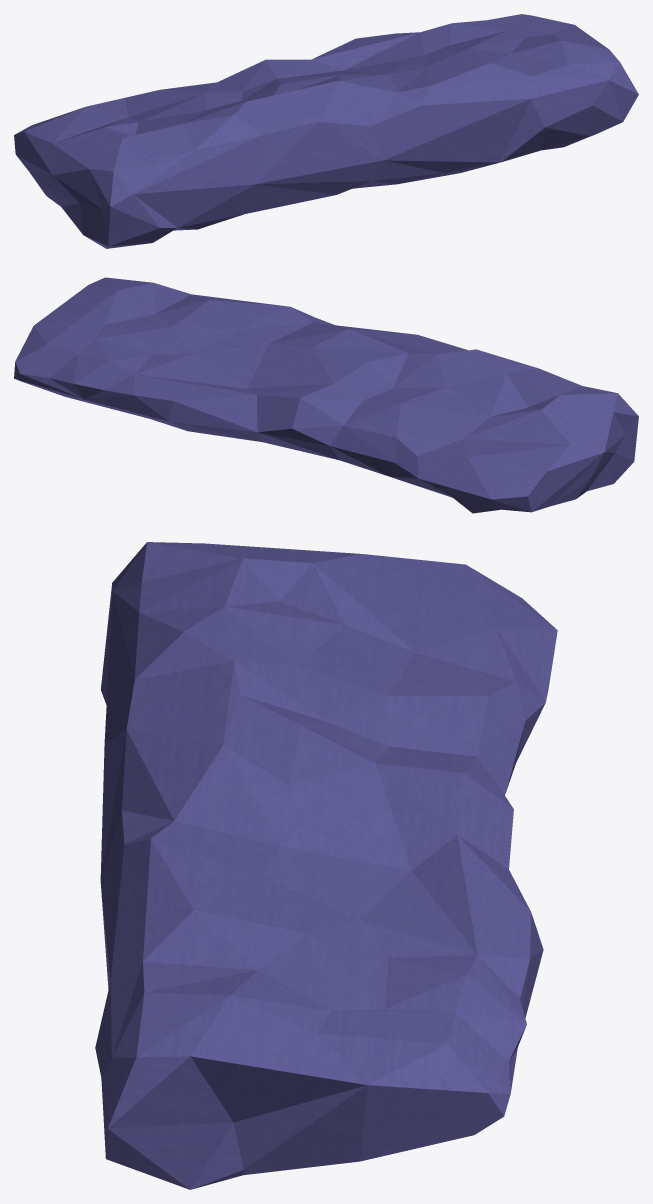
The model's file is Elder_IceWall4P3.fbx.
The picture shows the model from 3 angles, top to bottom: view 1: azimuth 30°, elevation 25°; view 2: azimuth 150°, elevation 25°; view 3: azimuth 270°, elevation 25°; orthographic projection. The views are drawn at different scales.
Parts seen in each view (by area): view 1: Elder_IceWall4P3; view 2: Elder_IceWall4P3; view 3: Elder_IceWall4P3.
Boxes of the visible parts, x1,y1,x2,y2 form: Elder_IceWall4P3: (14,14,638,248); Elder_IceWall4P3: (14,277,638,513); Elder_IceWall4P3: (95,542,557,1189).
Bounding box in the file's own units: 1426 × 270 × 529.
1 material, 1 textured.
